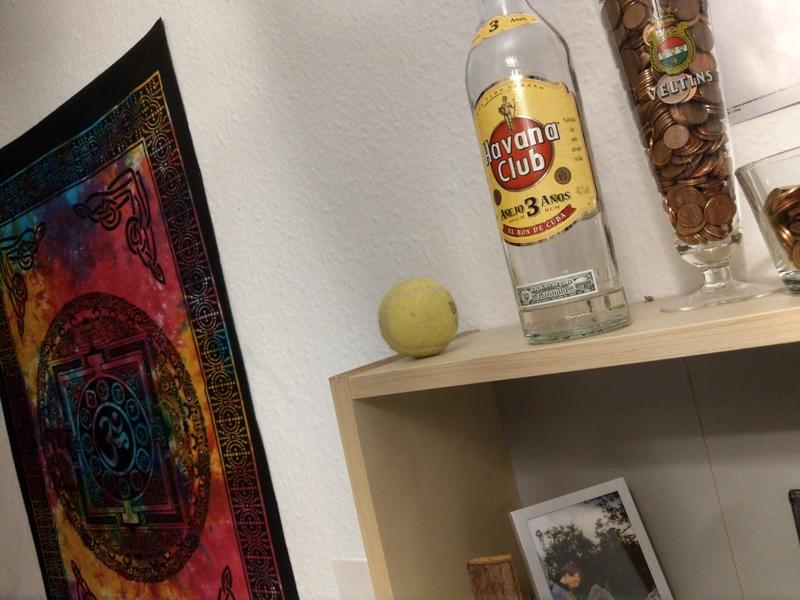Tennisball: (376, 276, 462, 361)
